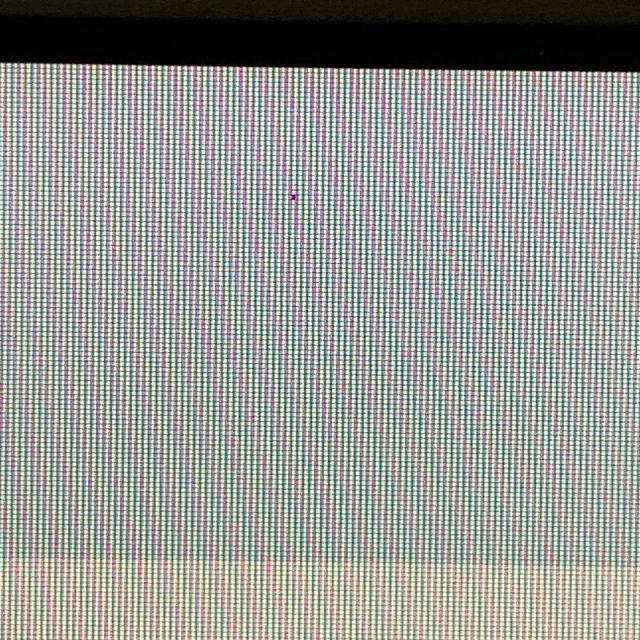Dead pixel: (289, 194, 298, 200)
